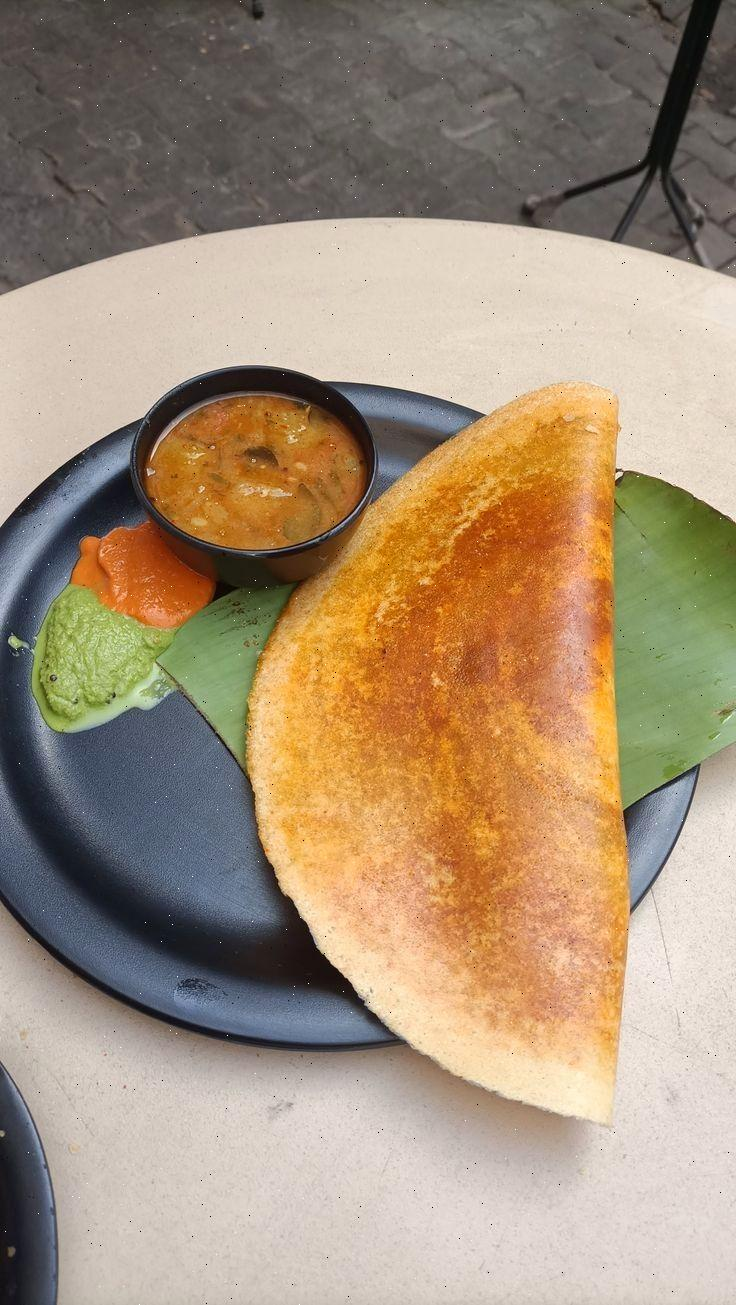dosa: (240, 404, 667, 1114)
